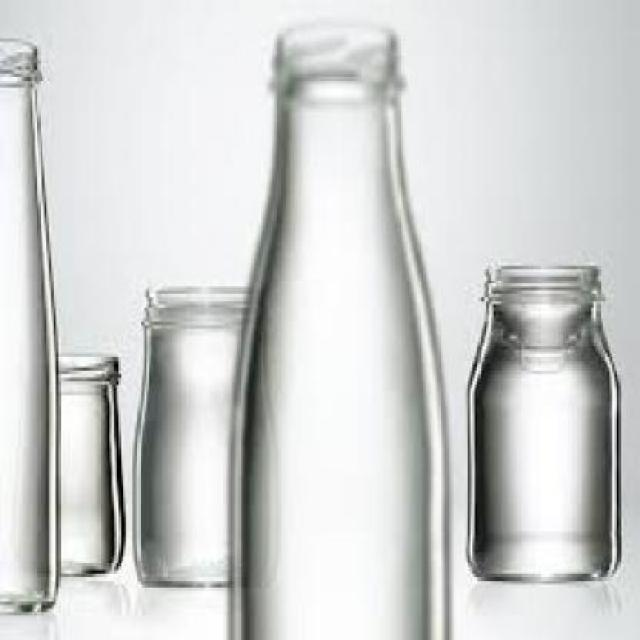kaca: (229, 21, 448, 637), (466, 263, 620, 582), (134, 288, 257, 584), (0, 38, 54, 610), (54, 354, 123, 577)
